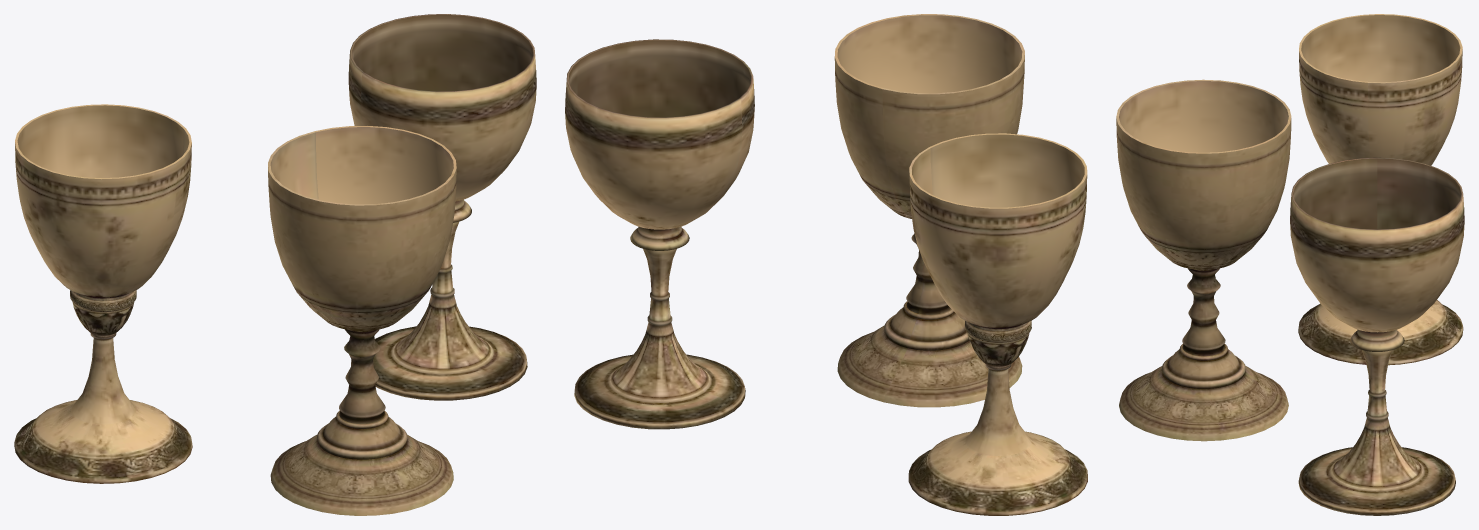
Rendered from brass_goblets.glb.
The picture shows the model from 3 angles, left to right: view 1: azimuth 30°, elevation 25°; view 2: azimuth 150°, elevation 25°; view 3: azimuth 270°, elevation 25°; orthographic projection. The views are drawn at different scales.
Parts seen in each view (by area): view 1: brass_goblet_01, brass_goblet_02, brass_goblet_03; view 2: brass_goblet_02, brass_goblet_03, brass_goblet_01; view 3: brass_goblet_01, brass_goblet_03, brass_goblet_02.
Part boxes in pixels (bbox=[...]): brass_goblet_01: bbox=[268, 126, 456, 515]; brass_goblet_02: bbox=[14, 104, 192, 483]; brass_goblet_03: bbox=[348, 14, 536, 400]; brass_goblet_02: bbox=[908, 133, 1087, 515]; brass_goblet_03: bbox=[565, 39, 754, 429]; brass_goblet_01: bbox=[834, 14, 1024, 407]; brass_goblet_01: bbox=[1116, 79, 1291, 441]; brass_goblet_03: bbox=[1290, 157, 1464, 515]; brass_goblet_02: bbox=[1298, 14, 1463, 365].
Size of the model in its own units: 0.4534 by 0.2734 by 0.2976.
3 materials, 3 textured.
